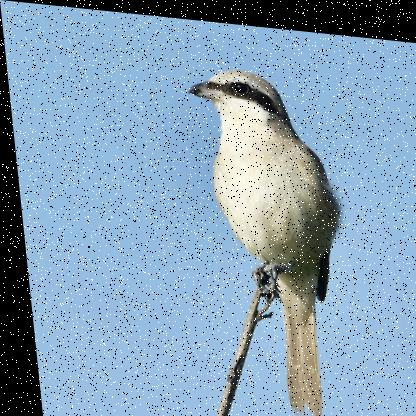Burung: (178, 59, 351, 413)
